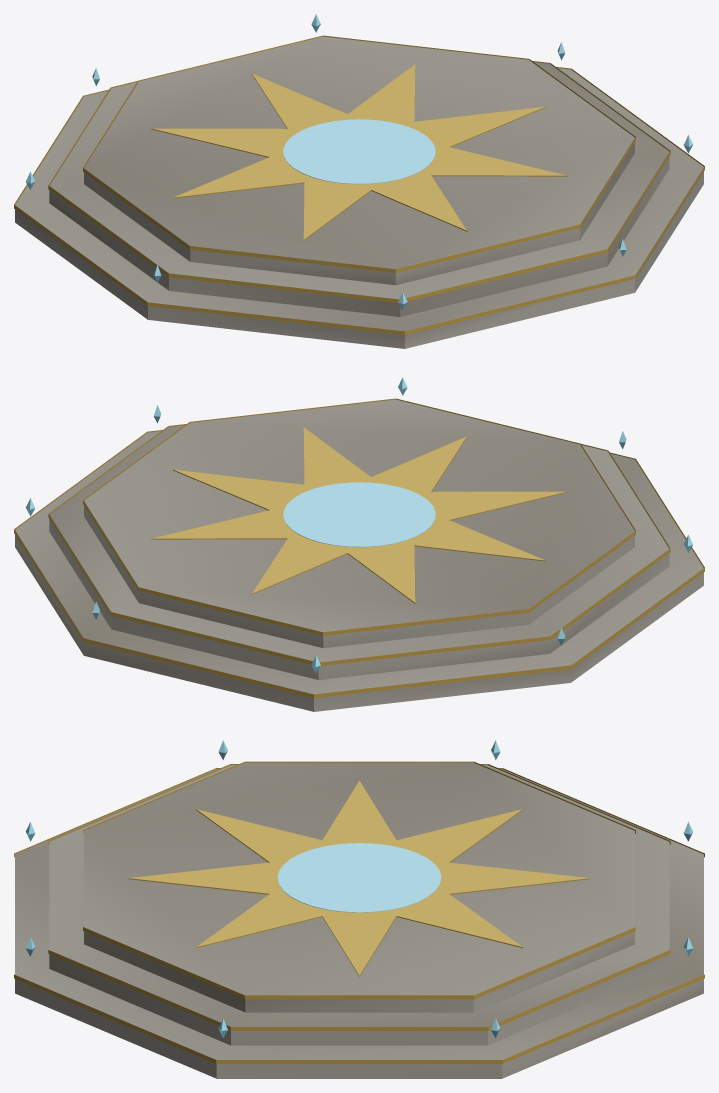
File: asgard_dais.glb
3 renders of one model, top to bottom at view 1: azimuth 30°, elevation 25°; view 2: azimuth 150°, elevation 25°; view 3: azimuth 270°, elevation 25°, orthographic. The views are drawn at different scales.
Parts seen in each view (by area): view 1: asgard_dais, asgard_dais_glow; view 2: asgard_dais, asgard_dais_glow; view 3: asgard_dais, asgard_dais_glow.
Part boxes in pixels (x1,y1,x2,y2): asgard_dais: (14, 35, 704, 348); asgard_dais_glow: (26, 14, 693, 310); asgard_dais: (14, 398, 704, 711); asgard_dais_glow: (25, 377, 692, 673); asgard_dais: (14, 761, 704, 1078); asgard_dais_glow: (25, 740, 693, 1037).
Bounding box in the file's own units: 18.53 × 1.64 × 18.53.
